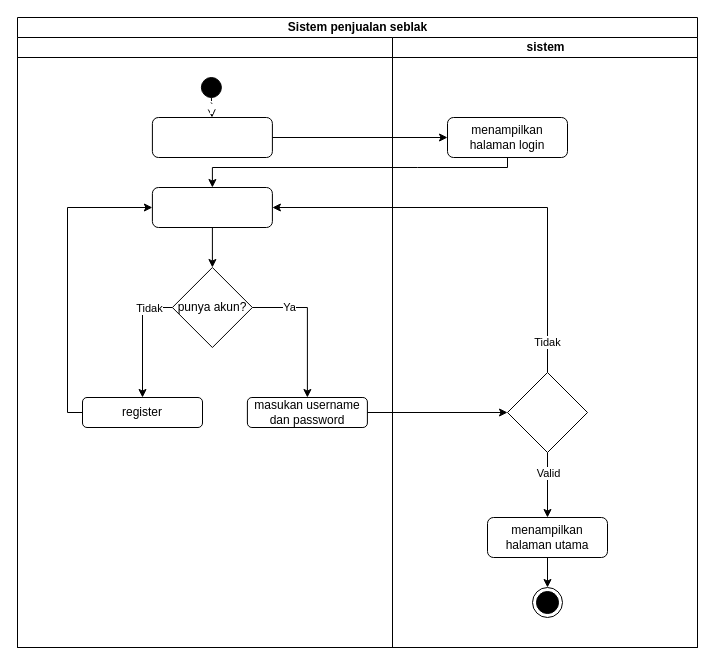
Image size: 715x665. Some labels were removed from this diagram. Each missing label, with the box of its shape:
cek validasi?: (506, 372, 588, 452)
masuk ke aplikasi: (151, 116, 272, 158)
melakukan login: (151, 186, 272, 228)
pelanggan: (16, 36, 392, 648)
